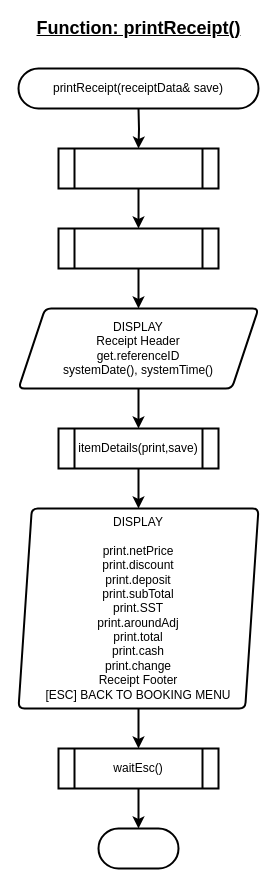
Image size: 276x886. Some labels were removed from this diagram. Each missing label, with the centre of its shape:
"RETURN" goes at pixel 138 848.
"systemDate()" goes at pixel 138 168.
"systemTime()" goes at pixel 138 248.
